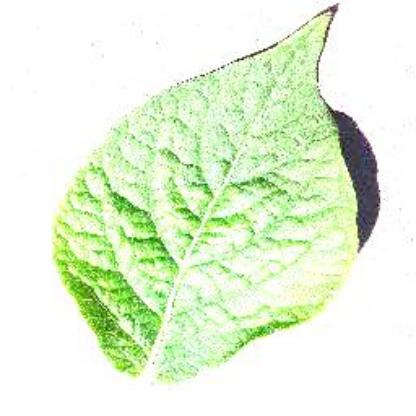Healthy-plant: (51, 8, 366, 388)
